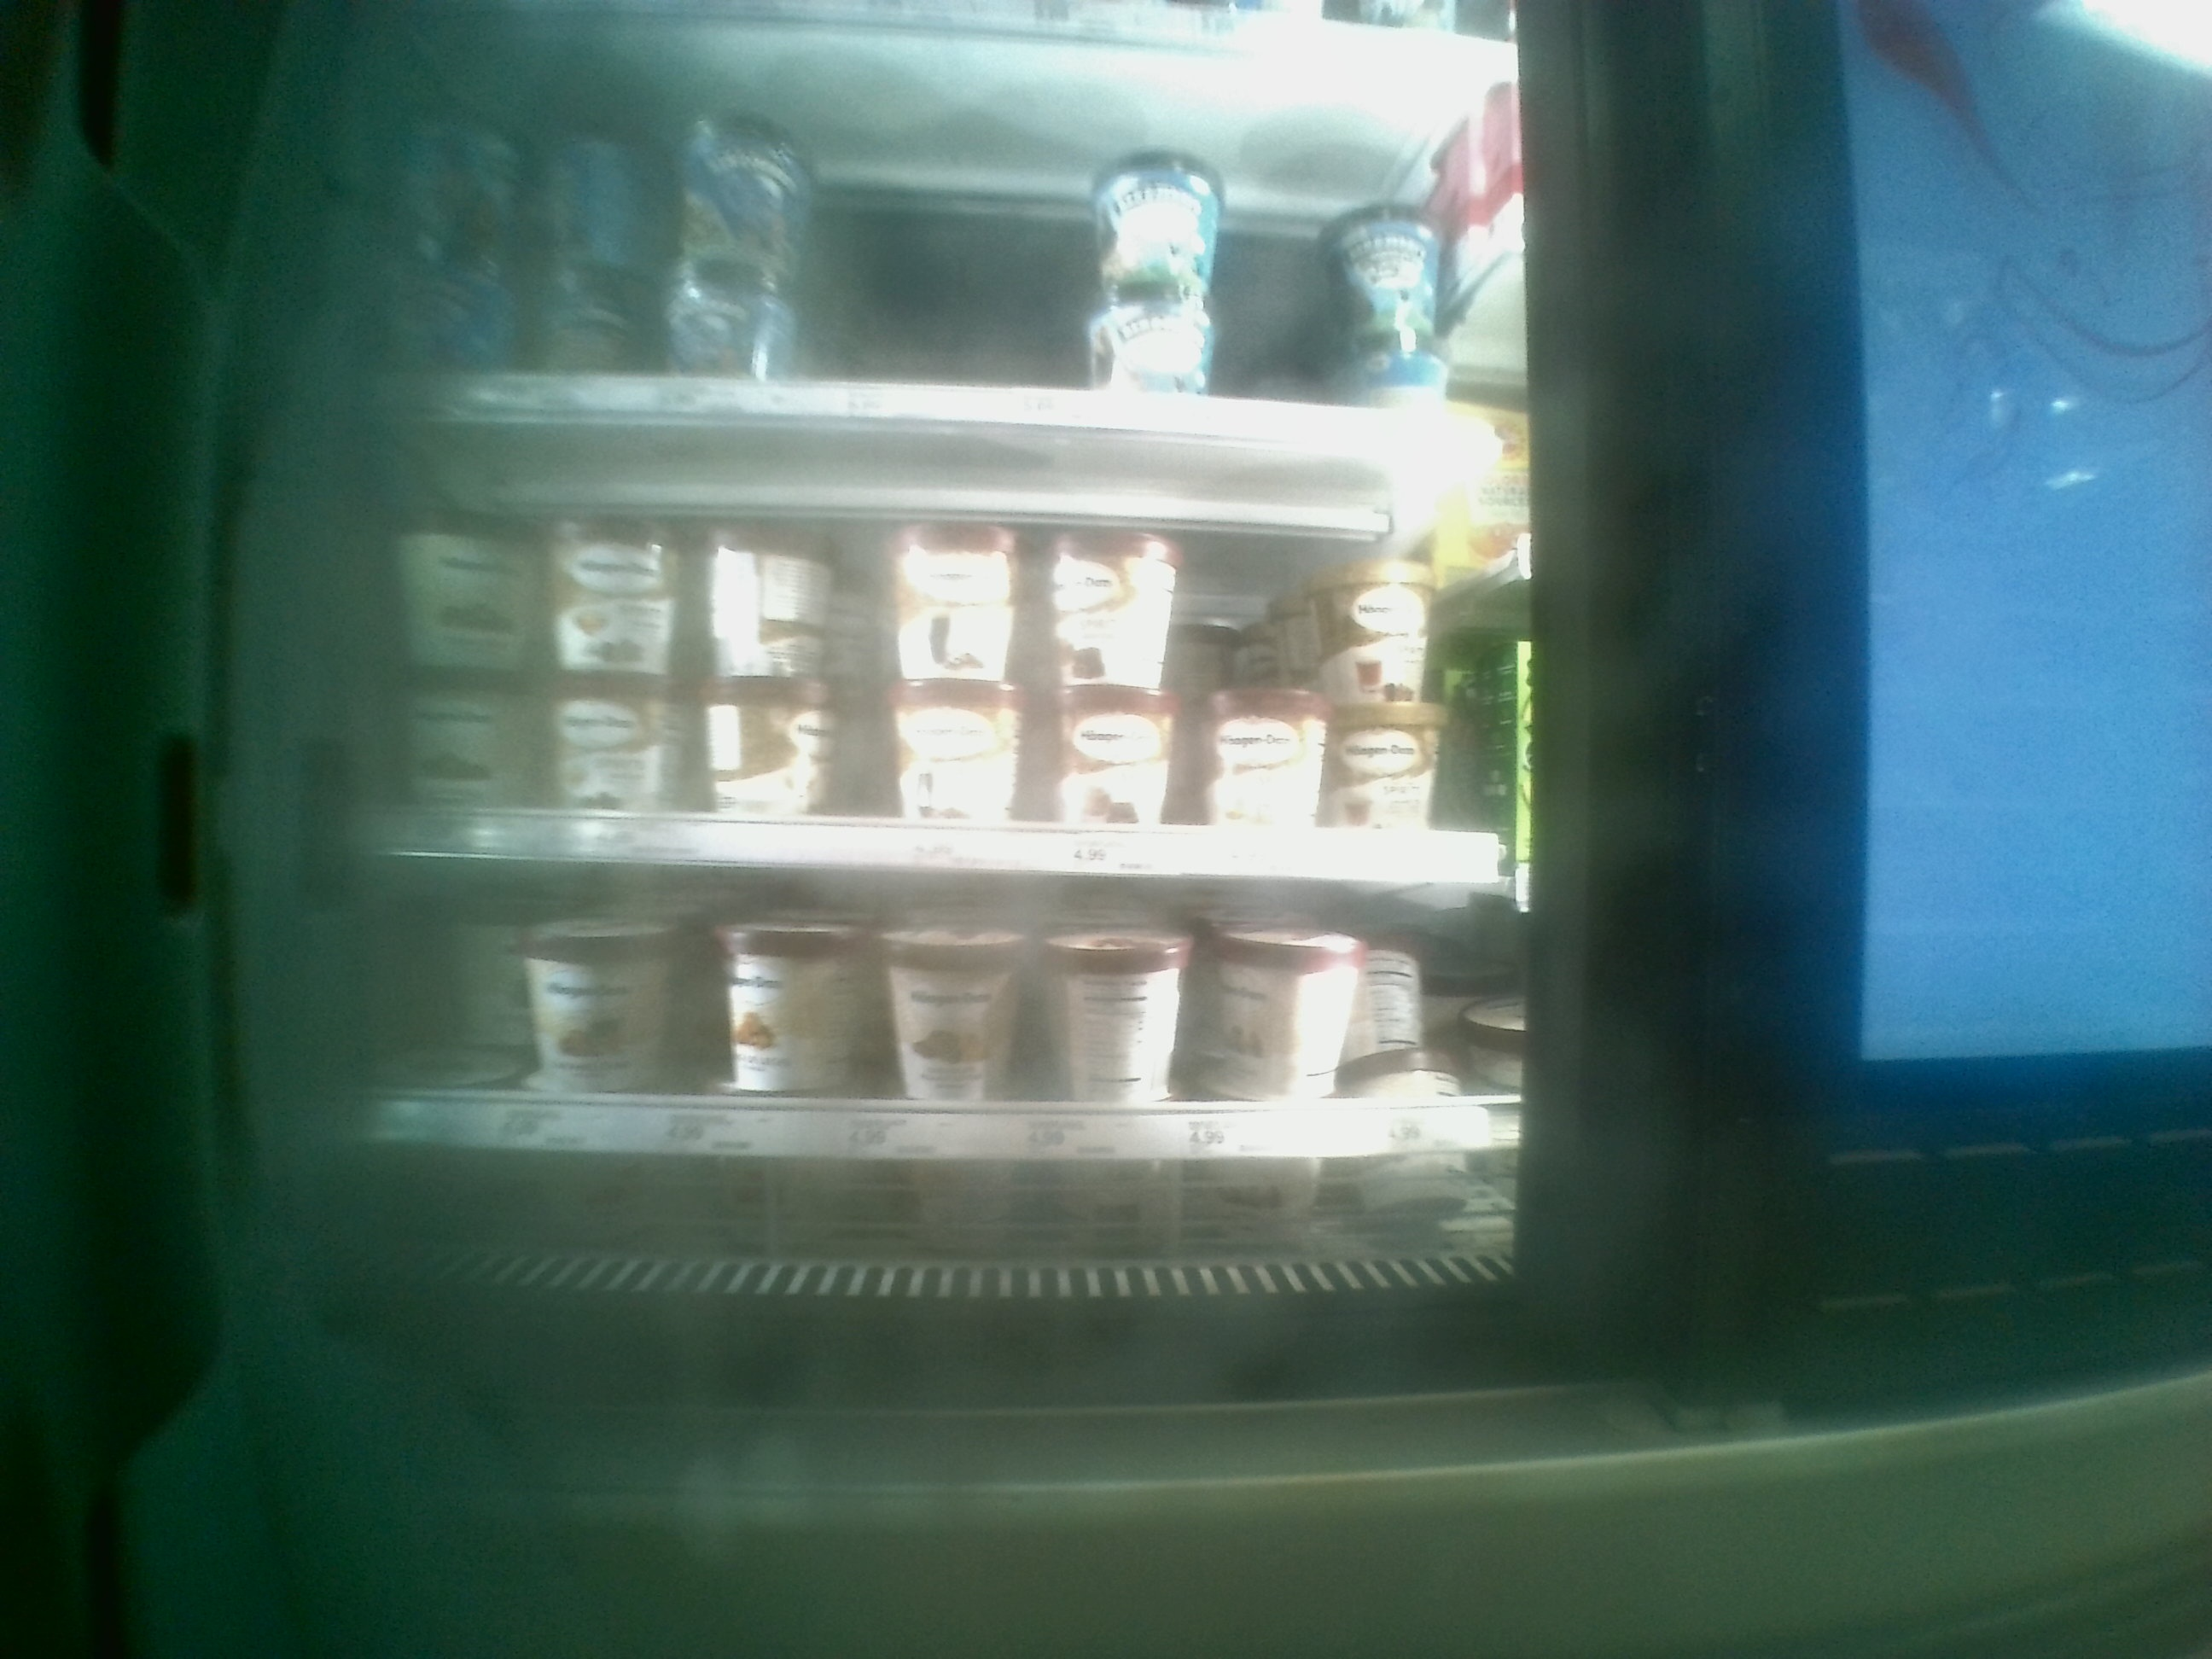shelf: (320, 401, 1514, 870), (315, 868, 1529, 1291)
